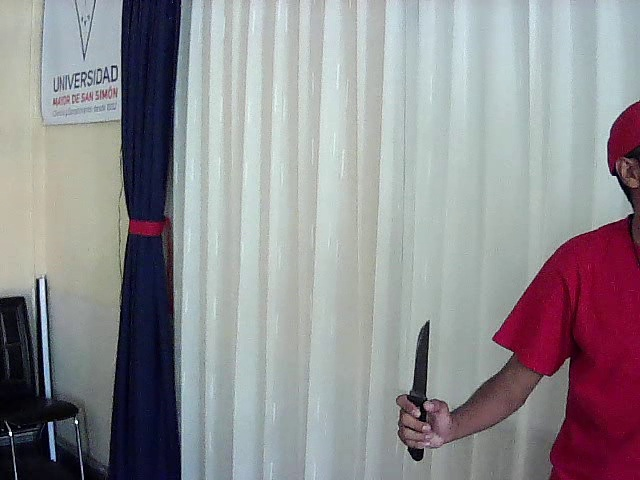cuchillo: (394, 312, 445, 426)
